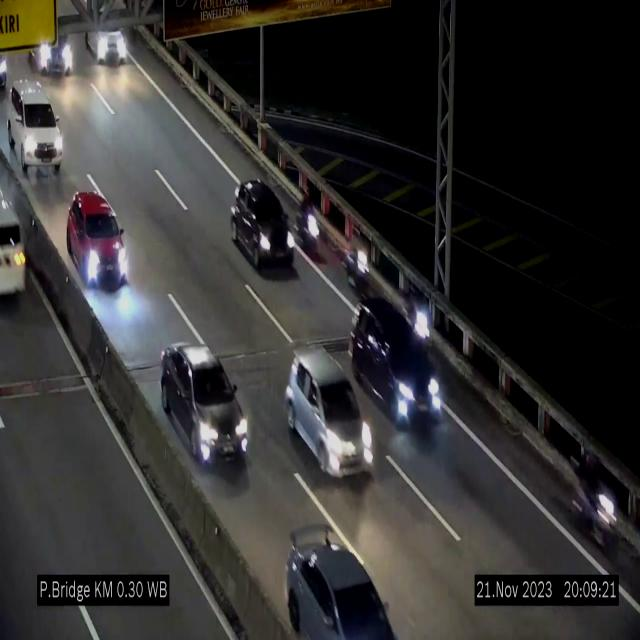Car: (282, 512, 386, 640), (350, 300, 442, 431), (284, 348, 374, 478), (161, 342, 250, 465), (232, 181, 298, 282), (0, 77, 64, 172), (68, 190, 128, 286), (23, 20, 78, 84), (0, 174, 22, 308), (86, 12, 128, 72)
Motorcycle: (571, 449, 622, 569), (300, 188, 326, 265), (346, 235, 372, 304), (409, 293, 433, 359)
